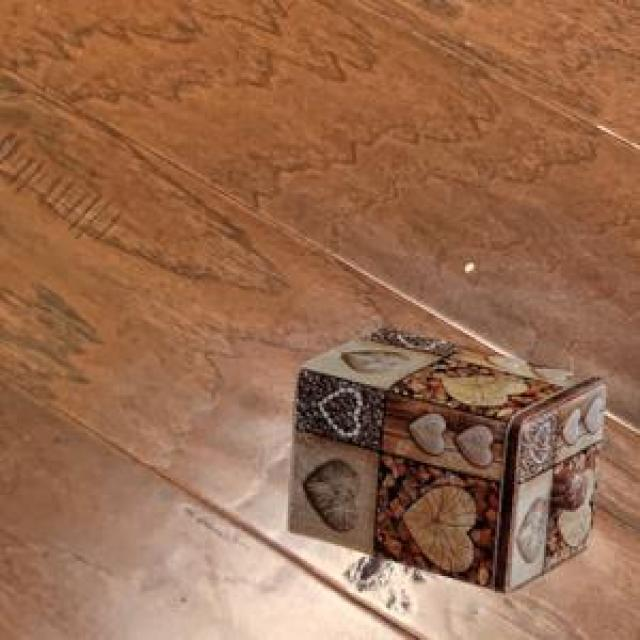Can: (285, 325, 603, 590)
